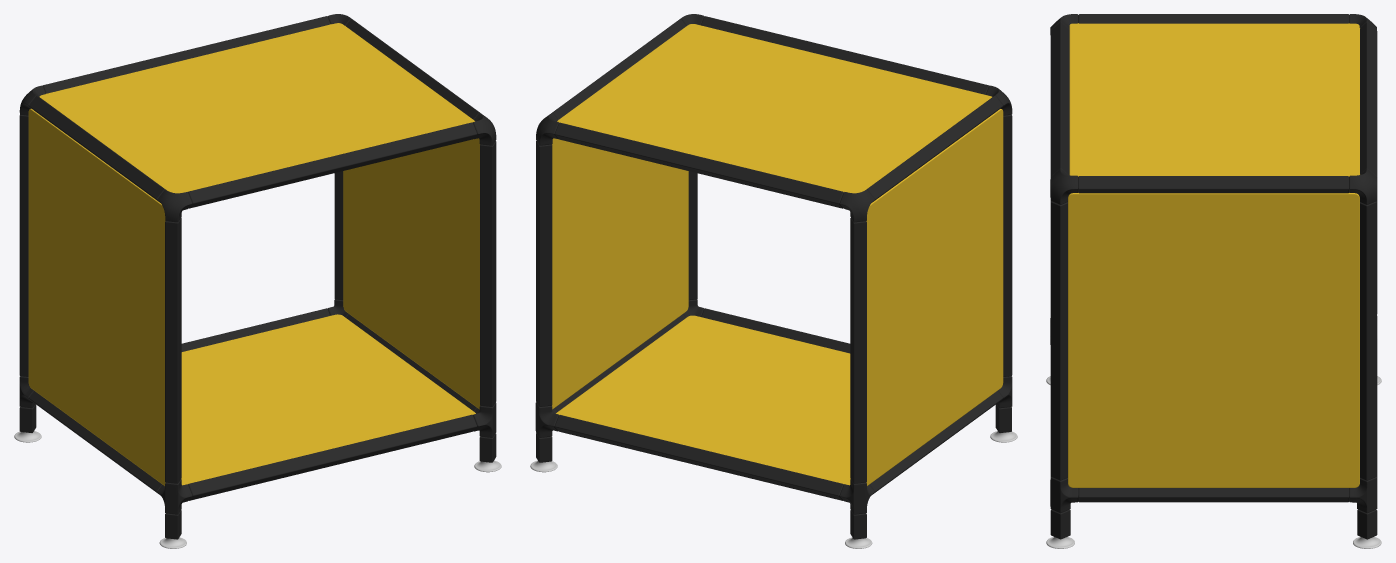
3 views of the same model, side by side, from view 1: azimuth 30°, elevation 25°; view 2: azimuth 150°, elevation 25°; view 3: azimuth 270°, elevation 25° (orthographic). The views are drawn at different scales.
Visible parts, largest first — view 1: 479x374x420; view 2: 479x374x420; view 3: 479x374x420.
Part boxes in pixels (box(x1,y1,x2,y2)): 479x374x420: box(14, 14, 501, 548); 479x374x420: box(530, 14, 1017, 548); 479x374x420: box(1046, 14, 1381, 548).
Bounding box in the file's own units: 0.5689 × 0.5593 × 0.4632.
